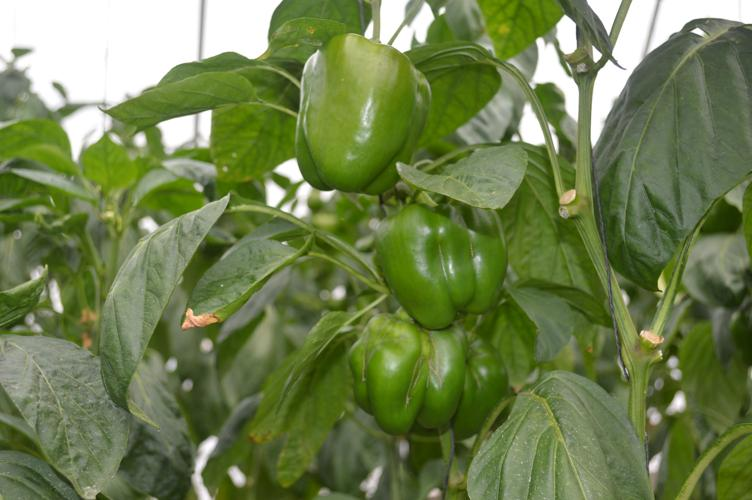BellPepper: (291, 38, 432, 192), (352, 316, 507, 437), (371, 197, 509, 327)
